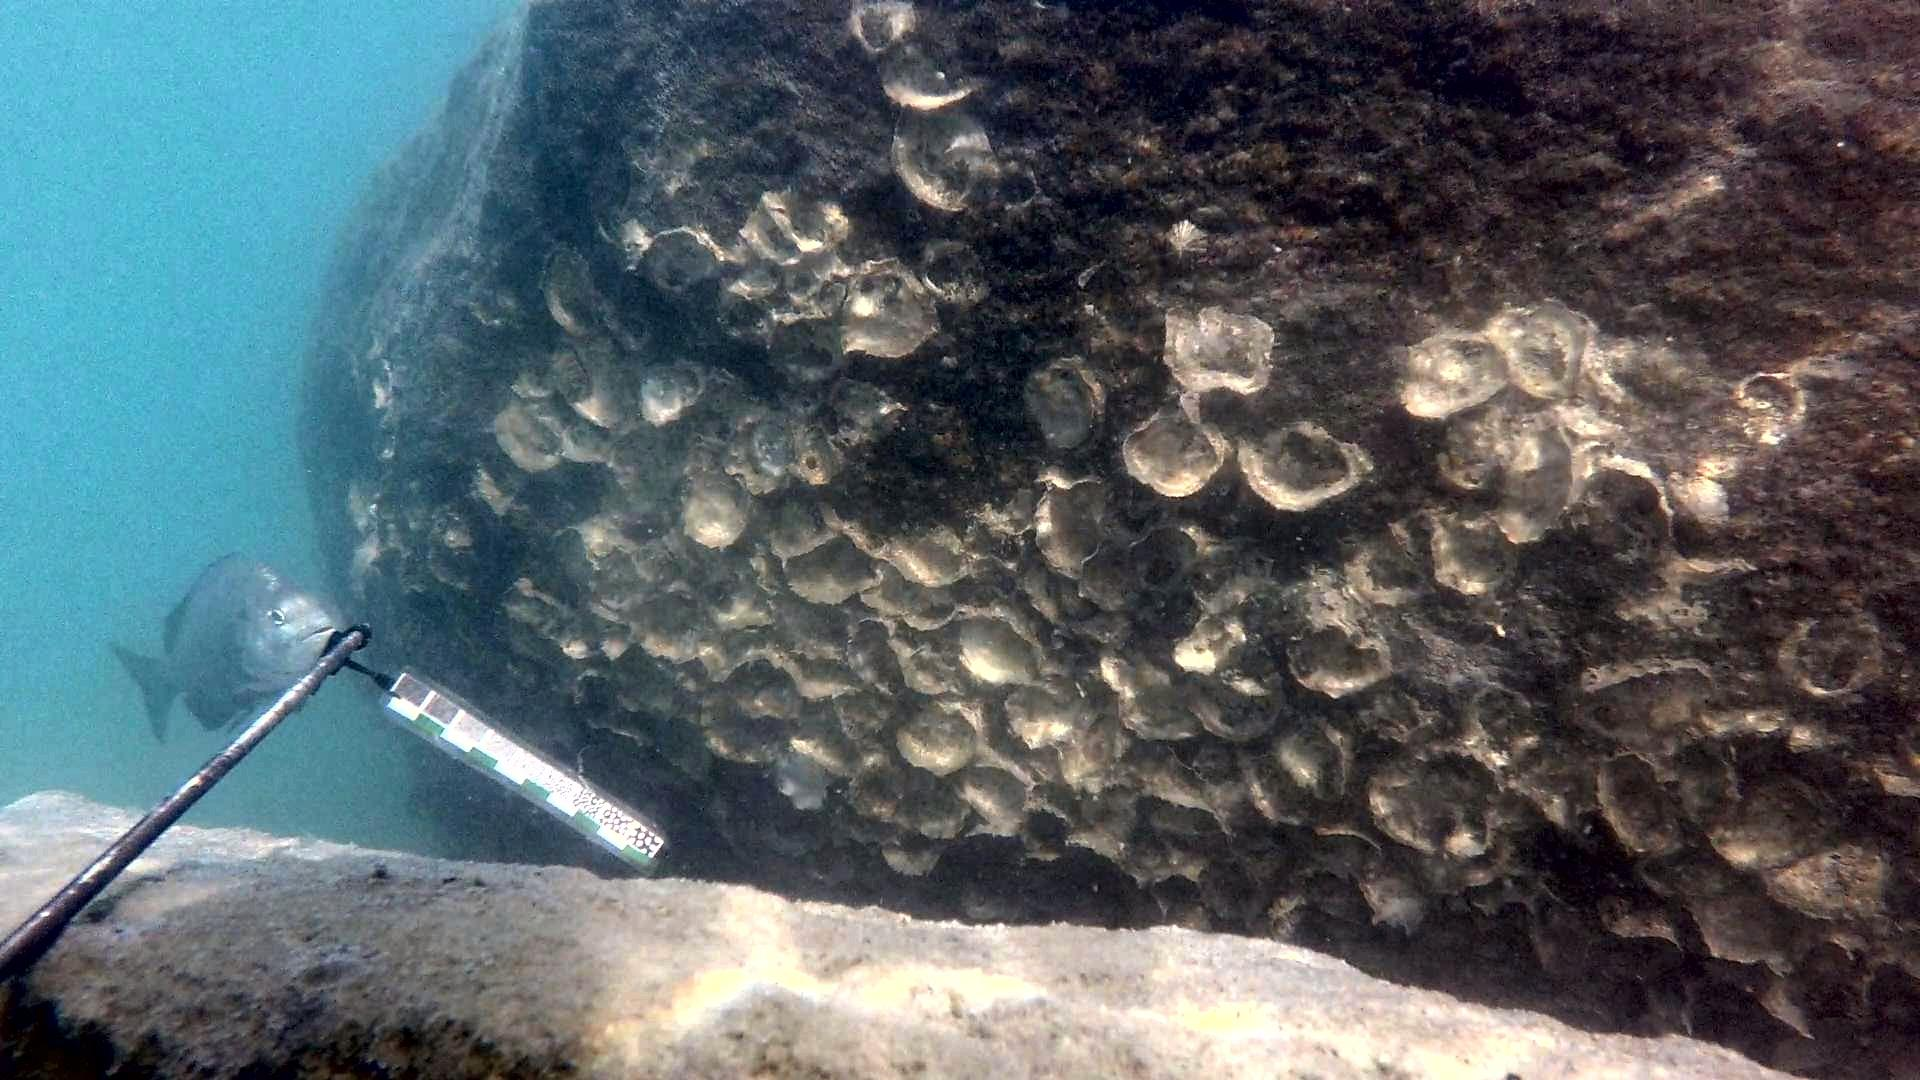acanthopagrus palmaris: (103, 540, 341, 746)
